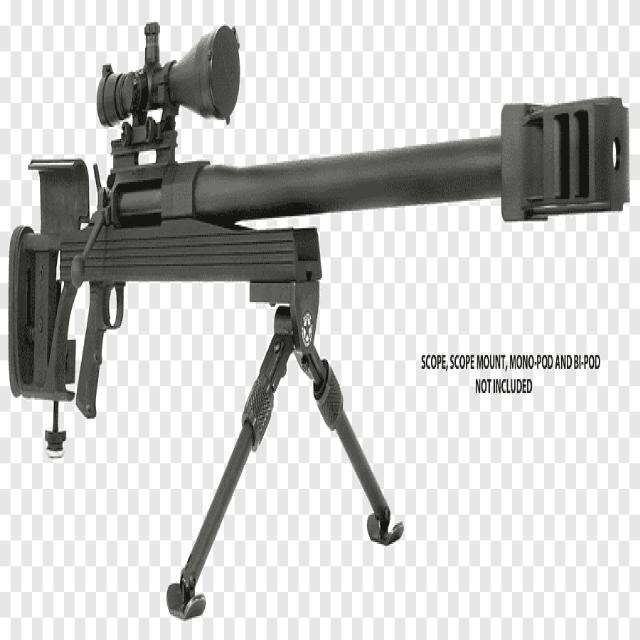Rifle: (9, 22, 630, 420)
